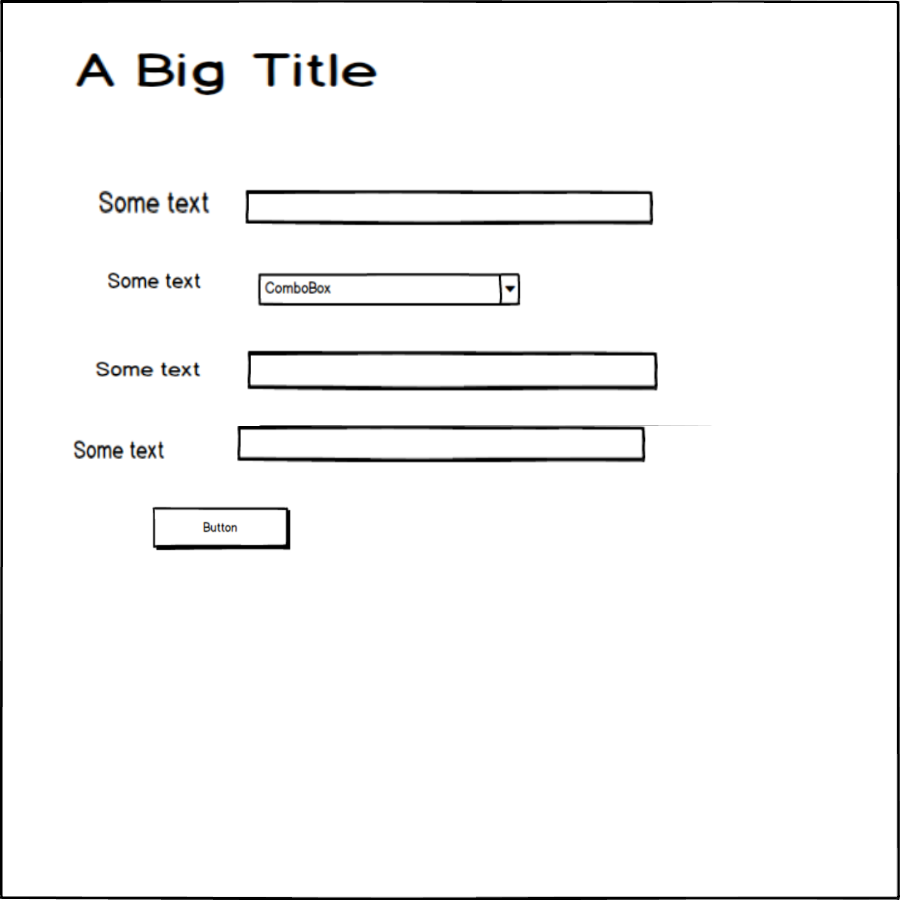button: (148, 503, 298, 556)
h1: (65, 37, 389, 107)
input: (245, 344, 663, 396), (238, 182, 655, 233), (228, 419, 653, 467)
label: (93, 182, 220, 225), (92, 352, 209, 388), (67, 430, 170, 467), (100, 264, 204, 297)
